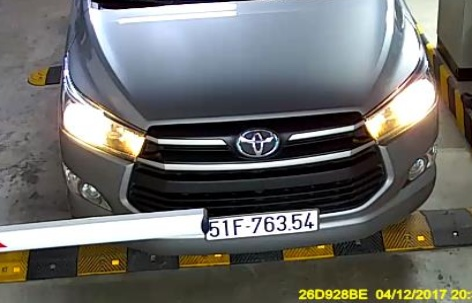plate: (202, 208, 325, 240)
